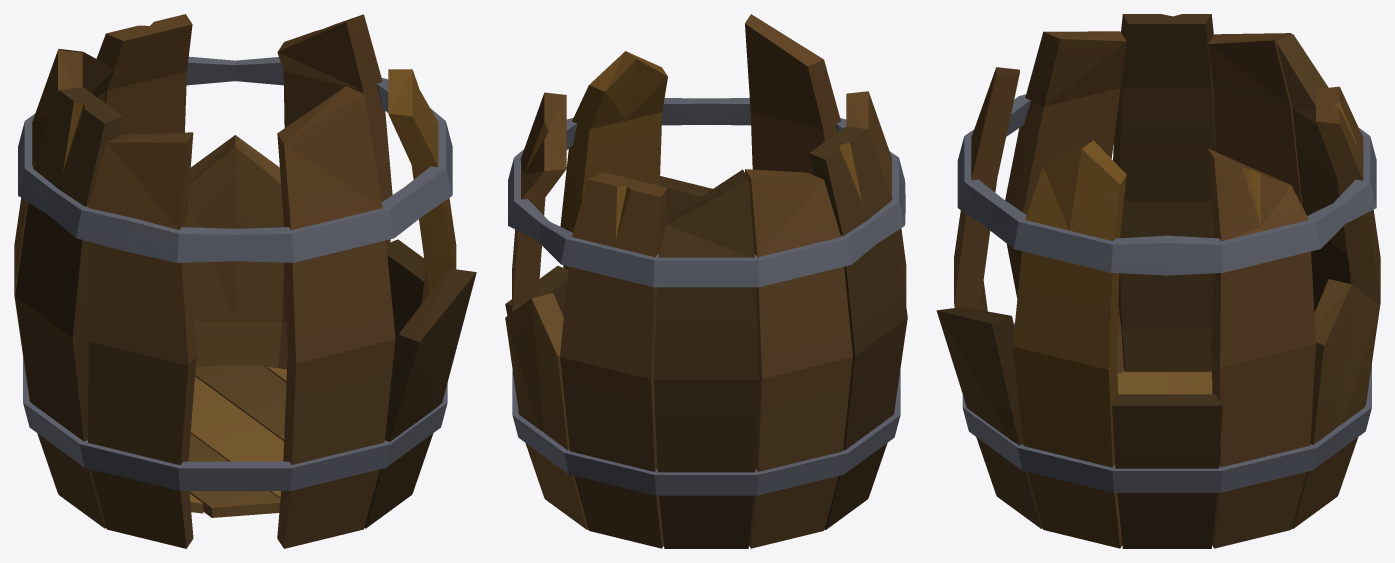
Rendered from BarrellBrocken.fbx.
3 renders of one model, left to right at view 1: azimuth 30°, elevation 25°; view 2: azimuth 150°, elevation 25°; view 3: azimuth 270°, elevation 25°, orthographic. The views are drawn at different scales.
Parts seen in each view (by area): view 1: BarrellBrocken; view 2: BarrellBrocken; view 3: BarrellBrocken.
Boxes of the visible parts, left/top/right/bottom form: BarrellBrocken: left=14, top=14, right=476, bottom=548; BarrellBrocken: left=505, top=14, right=907, bottom=548; BarrellBrocken: left=936, top=14, right=1380, bottom=548.
Bounding box in the file's own units: 77.8 × 84.56 × 81.02.
